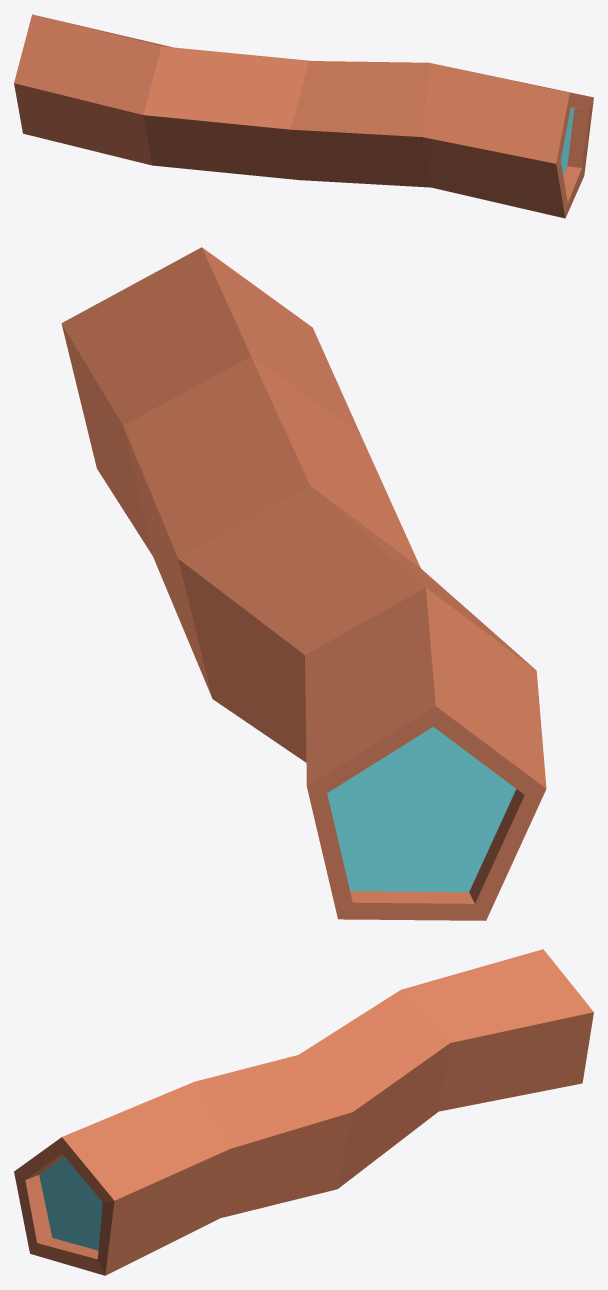
File: ENV_log_color.fbx
The picture shows the model from 3 angles, top to bottom: view 1: azimuth 30°, elevation 25°; view 2: azimuth 150°, elevation 25°; view 3: azimuth 270°, elevation 25°; orthographic projection. The views are drawn at different scales.
Parts seen in each view (by area): view 1: Cylinder.015; view 2: Cylinder.015; view 3: Cylinder.015.
Boxes of the visible parts, x1,y1,x2,y2 form: Cylinder.015: (14,14,593,218); Cylinder.015: (61,247,546,920); Cylinder.015: (14,949,593,1275).
Size of the model in its own units: 576 by 540 by 153.
